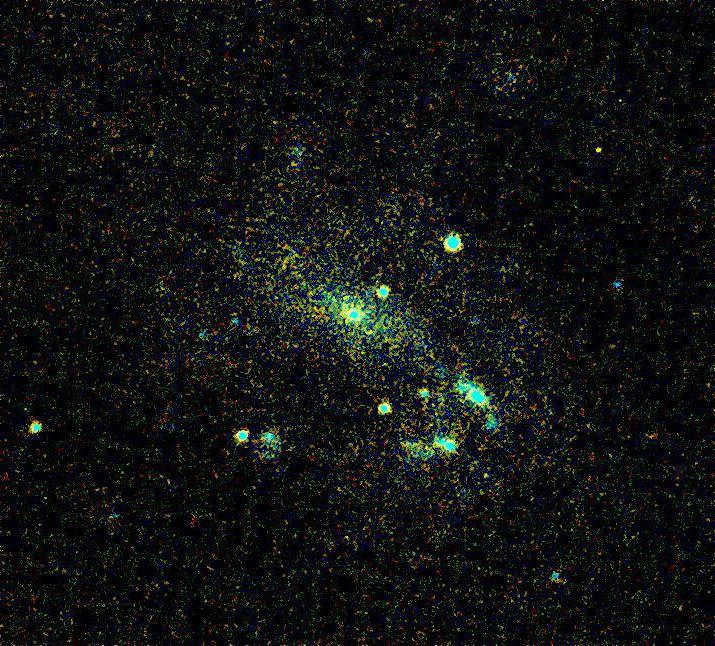star: (584, 133, 614, 163)
